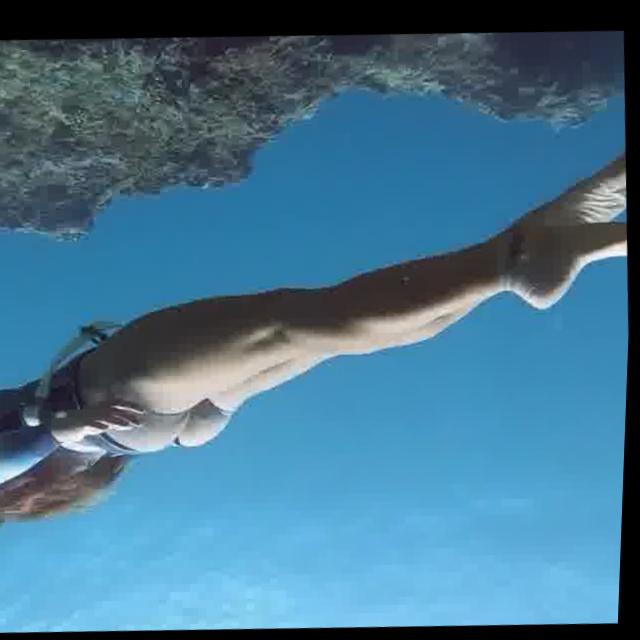human: (0, 101, 637, 575)
